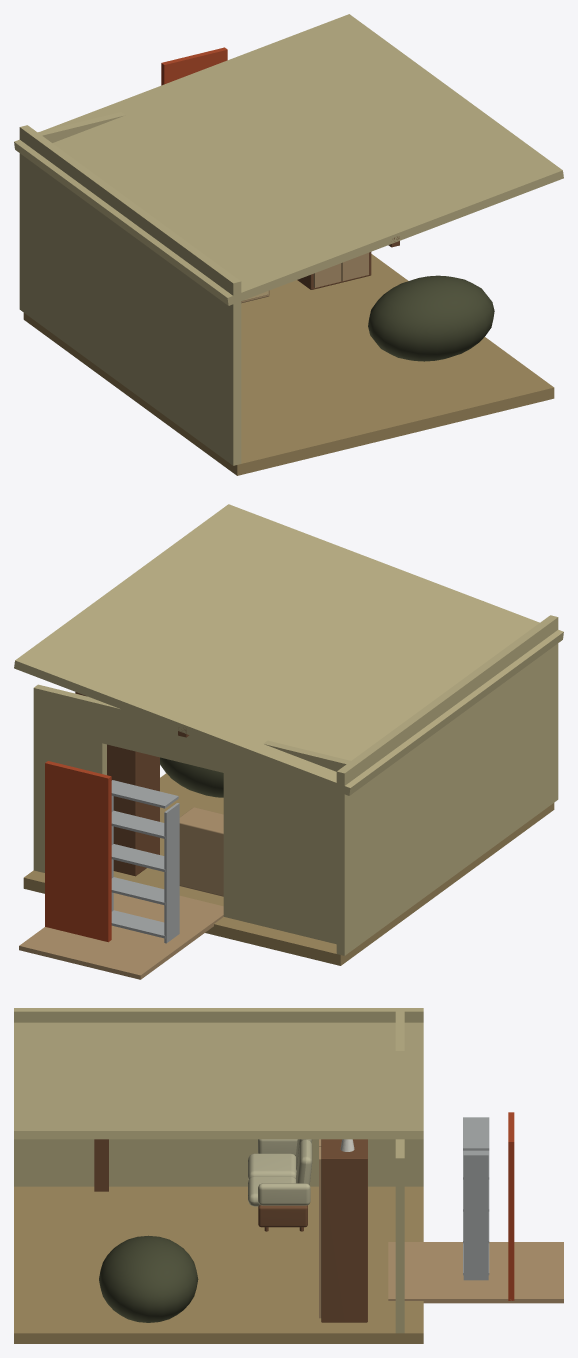
File: scene-3-scenerig.glb
3 renders of one model, top to bottom at view 1: azimuth 30°, elevation 25°; view 2: azimuth 150°, elevation 25°; view 3: azimuth 270°, elevation 25°, orthographic. The views are drawn at different scales.
Parts seen in each view (by area): view 1: sloped ceiling, left wall, floor, foreground dark ottoman, red hall wall, back wall left, cabinet door.001; view 2: sloped ceiling, left wall, back wall left, red hall wall, hall floor, floor, back wall right, door lintel, tall dark cabinet, patchwork dresser, shelf upright, foreground dark ottoman (+5 smaller); view 3: sloped ceiling, floor, left wall, hall floor, tall dark cabinet, foreground dark ottoman, shelf upright.001, back wall right, red hall wall, couch arm.001, couch seat, two seat couch base (+6 smaller).
Part boxes in pixels (x1=…): sloped ceiling: x1=14, y1=14, x2=563, y2=305; left wall: x1=19, y1=125, x2=241, y2=465; floor: x1=23, y1=254, x2=554, y2=475; foreground dark ottoman: x1=368, y1=275, x2=494, y2=361; red hall wall: x1=161, y1=47, x2=227, y2=85; back wall left: x1=34, y1=112, x2=125, y2=142; cabinet door.001: x1=341, y1=252, x2=368, y2=281; sloped ceiling: x1=14, y1=504, x2=563, y2=795; left wall: x1=336, y1=615, x2=558, y2=955; back wall left: x1=223, y1=740, x2=354, y2=944; red hall wall: x1=45, y1=761, x2=111, y2=942; hall floor: x1=19, y1=893, x2=223, y2=979; floor: x1=23, y1=773, x2=554, y2=965; back wall right: x1=33, y1=684, x2=106, y2=872; door lintel: x1=102, y1=703, x2=223, y2=772; tall dark cabinet: x1=75, y1=692, x2=159, y2=876; patchwork dresser: x1=179, y1=807, x2=223, y2=896; shelf upright: x1=164, y1=803, x2=179, y2=943; foreground dark ottoman: x1=160, y1=757, x2=223, y2=797; sloped ceiling: x1=14, y1=1022, x2=423, y2=1139; floor: x1=14, y1=1186, x2=423, y2=1343; left wall: x1=14, y1=1008, x2=423, y2=1186; hall floor: x1=388, y1=1242, x2=563, y2=1303; tall dark cabinet: x1=321, y1=1139, x2=367, y2=1322; foreground dark ottoman: x1=99, y1=1235, x2=198, y2=1322; shelf upright.001: x1=463, y1=1154, x2=488, y2=1280; back wall right: x1=395, y1=1139, x2=404, y2=1333; red hall wall: x1=508, y1=1112, x2=514, y2=1300; couch arm.001: x1=258, y1=1183, x2=310, y2=1205; couch seat: x1=248, y1=1153, x2=296, y2=1179; two seat couch base: x1=258, y1=1205, x2=307, y2=1227.
Size of the model in its own units: 6.37 by 4.09 by 9.4.
